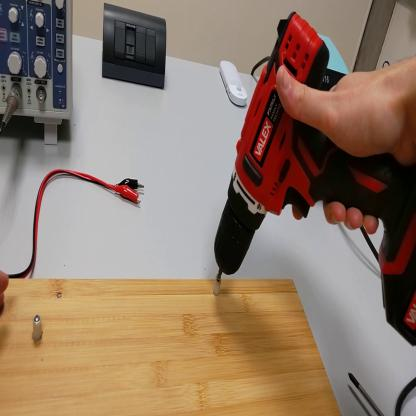electric screwdriver: (215, 2, 416, 346)
hand: (277, 57, 410, 252)
oscilloscope: (1, 1, 75, 147)
screwdriver-: (350, 372, 385, 416)
welder station: (314, 32, 355, 89)
working area: (2, 276, 341, 414)
